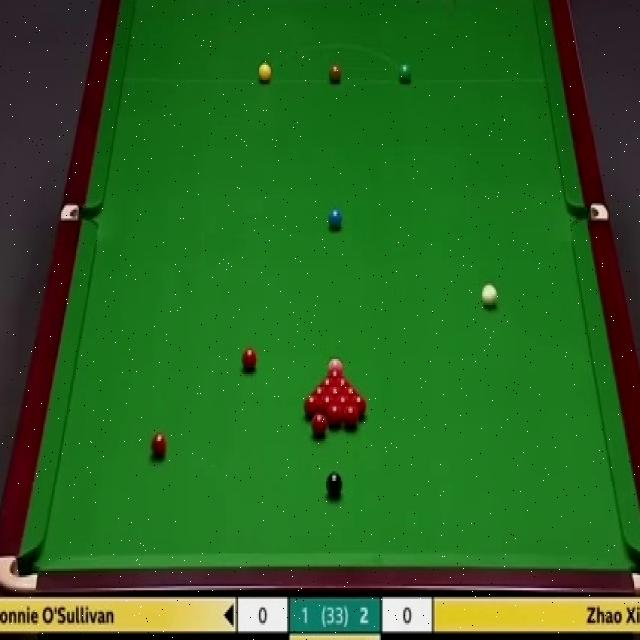black-ball: (326, 471, 343, 498)
blue-ball: (328, 207, 342, 227)
brown-ball: (328, 65, 342, 83)
green-ball: (398, 61, 413, 86)
pink-ball: (328, 358, 344, 376)
red-ball: (150, 431, 169, 462), (304, 393, 321, 420), (344, 403, 359, 432), (310, 411, 328, 434), (243, 347, 257, 374), (328, 403, 343, 426), (334, 396, 352, 415), (350, 395, 367, 415), (342, 384, 360, 400), (327, 384, 343, 401), (312, 384, 329, 399), (322, 396, 334, 417), (335, 374, 349, 391), (320, 376, 336, 390)
white-ball: (481, 284, 498, 307)
yellow-ball: (257, 62, 272, 84)
